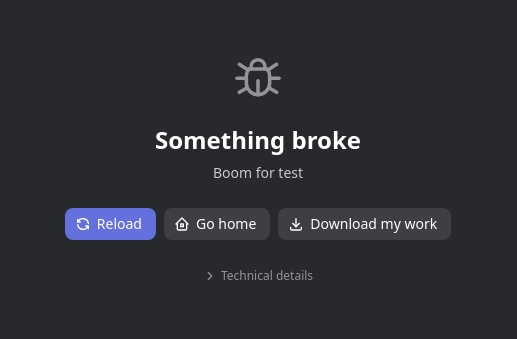
Scenario: ErrorFallback › shows a success message after a successful recovery download
Click the button "Download my work": (365, 224) [278,208,451,240]
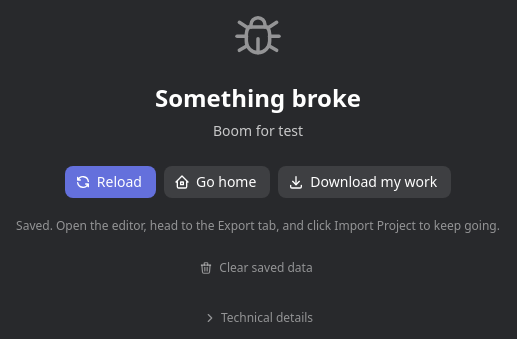
Expected: the text "Saved." is shown, [16,217,500,234]
